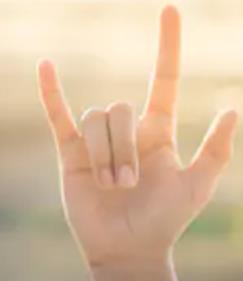back: (34, 1, 241, 268)
